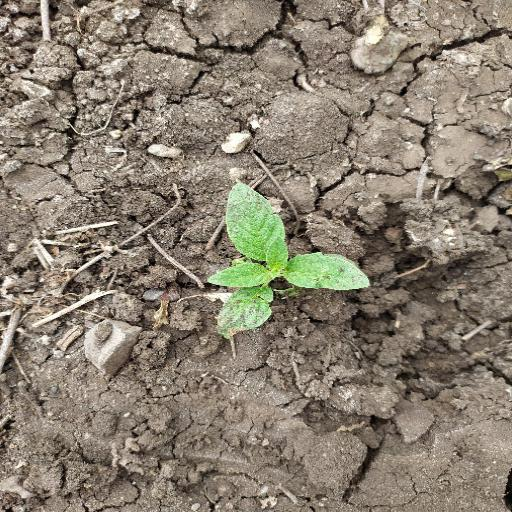crop: (208, 182, 371, 358)
